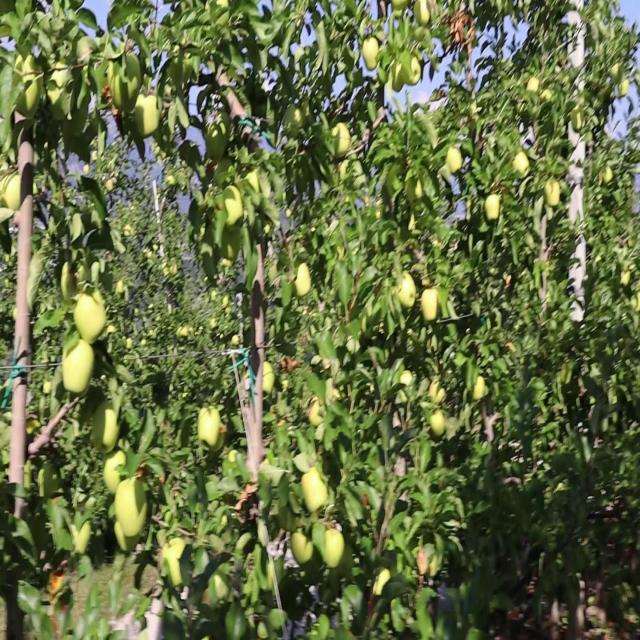apple: (64, 341, 96, 396), (116, 483, 148, 535), (17, 56, 43, 119), (76, 291, 107, 343), (116, 63, 143, 114), (136, 92, 160, 140), (104, 447, 128, 494), (304, 469, 329, 514), (164, 540, 185, 592), (224, 184, 245, 228), (116, 519, 141, 555), (100, 412, 120, 453), (64, 263, 81, 309), (324, 533, 345, 569), (292, 533, 314, 567), (200, 412, 220, 448), (396, 277, 416, 311), (228, 92, 249, 124), (372, 568, 392, 601), (332, 127, 352, 158), (364, 35, 381, 71), (4, 177, 21, 213), (296, 263, 312, 299), (456, 14, 475, 44), (405, 56, 423, 87), (460, 14, 476, 48), (544, 177, 561, 208), (424, 291, 441, 322), (484, 191, 501, 222), (420, 547, 437, 578), (512, 149, 530, 178), (408, 177, 424, 206), (76, 526, 92, 555), (308, 398, 324, 427), (420, 1, 437, 28), (416, 0, 432, 28), (416, 547, 430, 578), (448, 149, 464, 176), (472, 376, 487, 404), (264, 362, 276, 396), (432, 412, 446, 439), (392, 63, 405, 92), (400, 369, 413, 398), (216, 575, 229, 603), (572, 106, 584, 135), (432, 383, 447, 405), (616, 78, 631, 100), (368, 7, 387, 23), (420, 270, 433, 290), (448, 419, 459, 441), (600, 170, 613, 187), (612, 63, 622, 85), (392, 7, 406, 21), (528, 78, 540, 94), (376, 7, 387, 21), (204, 590, 213, 606), (180, 327, 190, 341), (44, 383, 52, 398), (544, 92, 553, 103), (224, 298, 231, 309)
